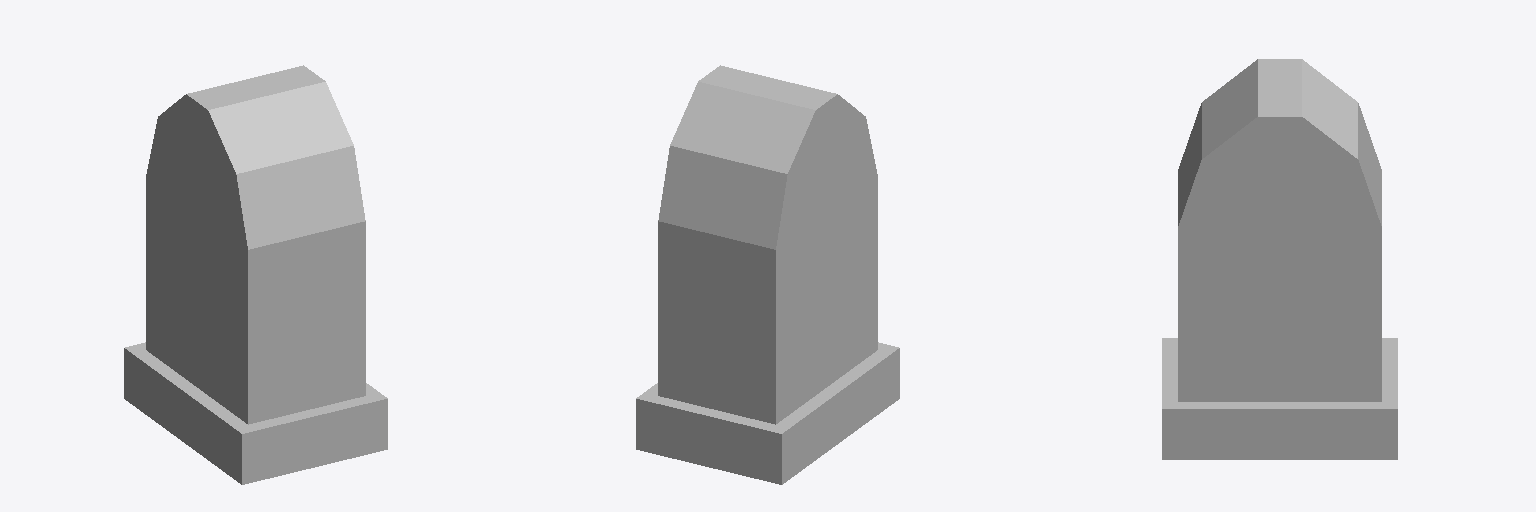
Rendered from tombstone.obj.
3 renders of one model, left to right at view 1: azimuth 30°, elevation 25°; view 2: azimuth 150°, elevation 25°; view 3: azimuth 270°, elevation 25°, orthographic.
Parts seen in each view (by area): view 1: Cube; view 2: Cube; view 3: Cube.
Boxes of the visible parts, <box> form: Cube: <box>124,65,387,484</box>; Cube: <box>636,65,899,484</box>; Cube: <box>1162,59,1397,459</box>.
Bounding box in the file's own units: 0.7135 × 1.57 × 1.